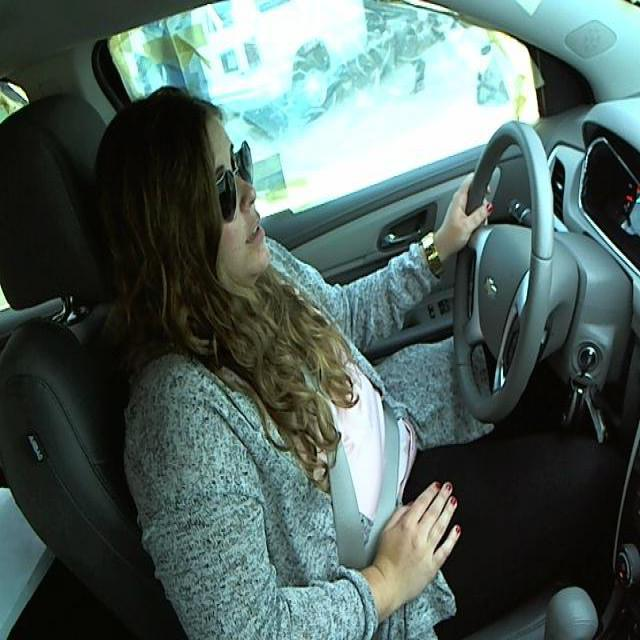seatbelt: (286, 368, 413, 559)
